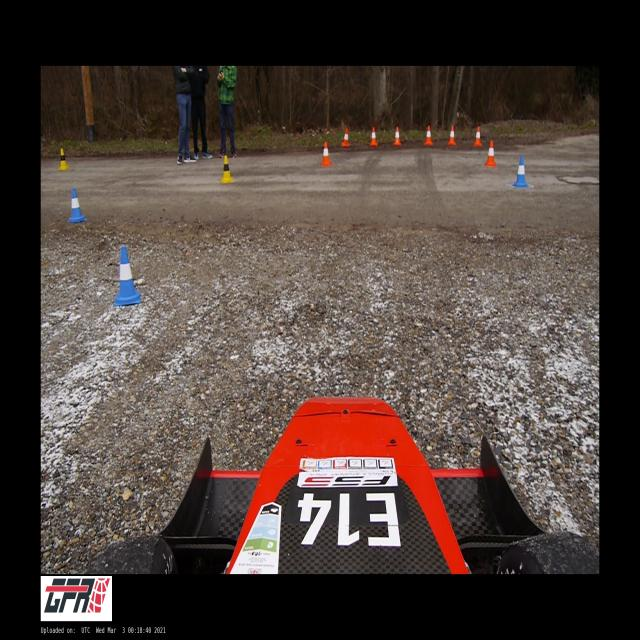blue_cone: (113, 247, 140, 305), (67, 188, 86, 223), (512, 156, 528, 188)
orange_cone: (484, 140, 496, 167), (321, 142, 332, 167), (473, 126, 482, 147), (447, 126, 456, 146), (424, 126, 433, 146), (370, 127, 378, 146), (342, 128, 350, 147), (394, 126, 401, 146)
yellow_cone: (219, 156, 233, 183), (58, 149, 69, 171)
